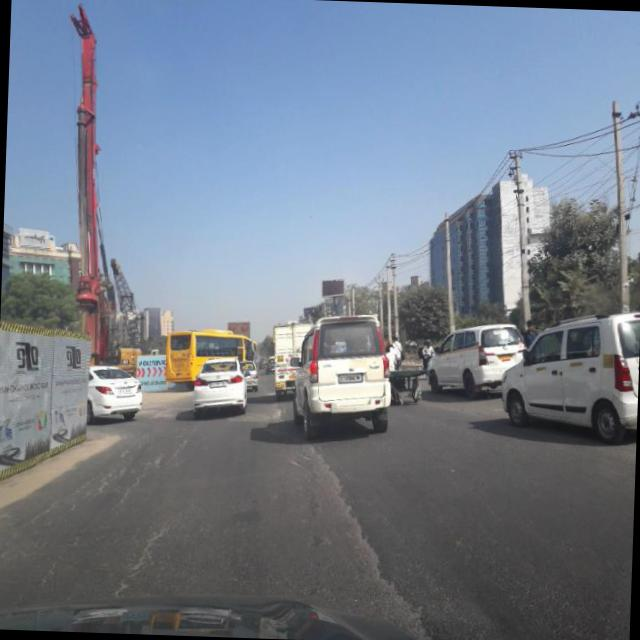crack: (8, 436, 118, 582)
pothole: (116, 426, 182, 554), (112, 510, 180, 602)
